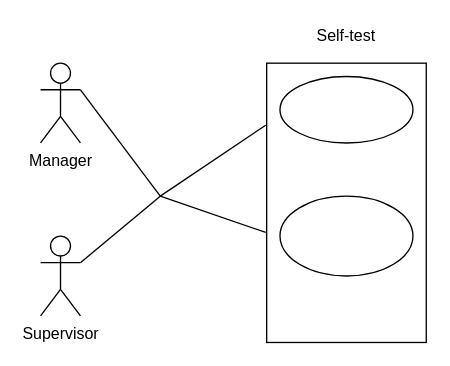
Some shapes in this 450 by 366 pixel diagram are drawn without their labels. The centre of each missing label's shape, as x and y in pixels:
"Review stored data" goes at pixel 346 109.
"Test accuracy" goes at pixel 346 235.
